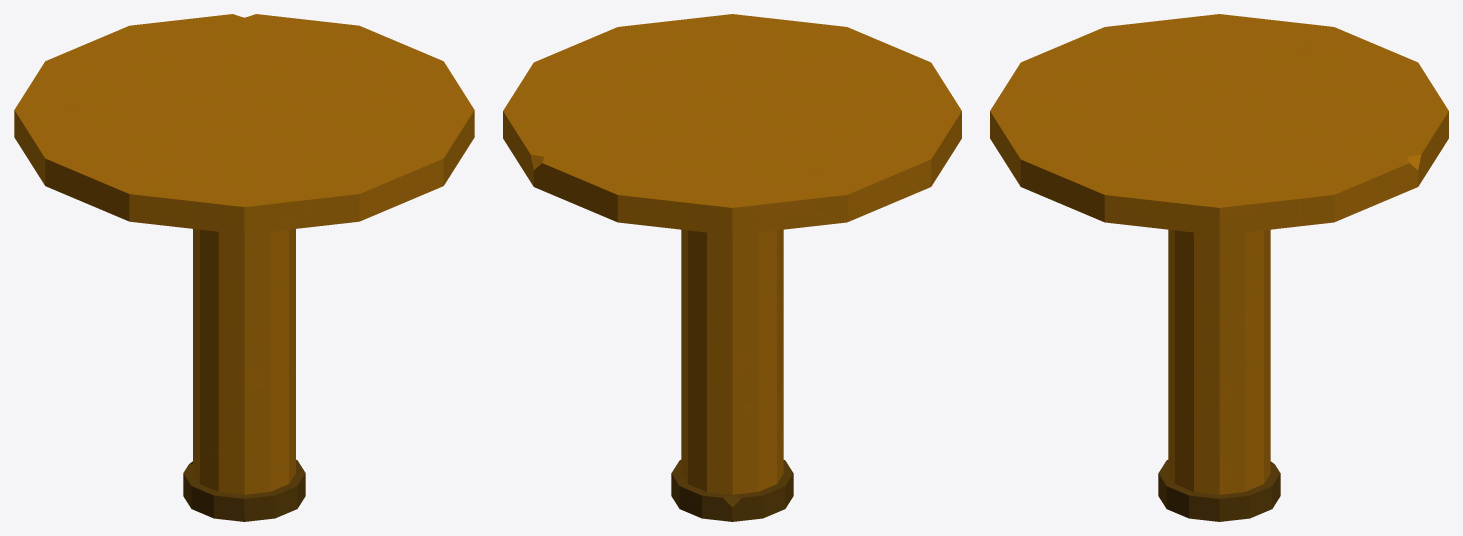
The model's file is Table_3.fbx.
The picture shows the model from 3 angles, left to right: view 1: azimuth 30°, elevation 25°; view 2: azimuth 150°, elevation 25°; view 3: azimuth 270°, elevation 25°; orthographic projection.
Visible parts, largest first — view 1: Table 3; view 2: Table 3; view 3: Table 3.
Part boxes in pixels (x1,y1,x2,y2): Table 3: [14, 14, 474, 521]; Table 3: [503, 14, 961, 521]; Table 3: [990, 14, 1448, 521].
Size of the model in its own units: 90.55 by 83.86 by 90.55.
